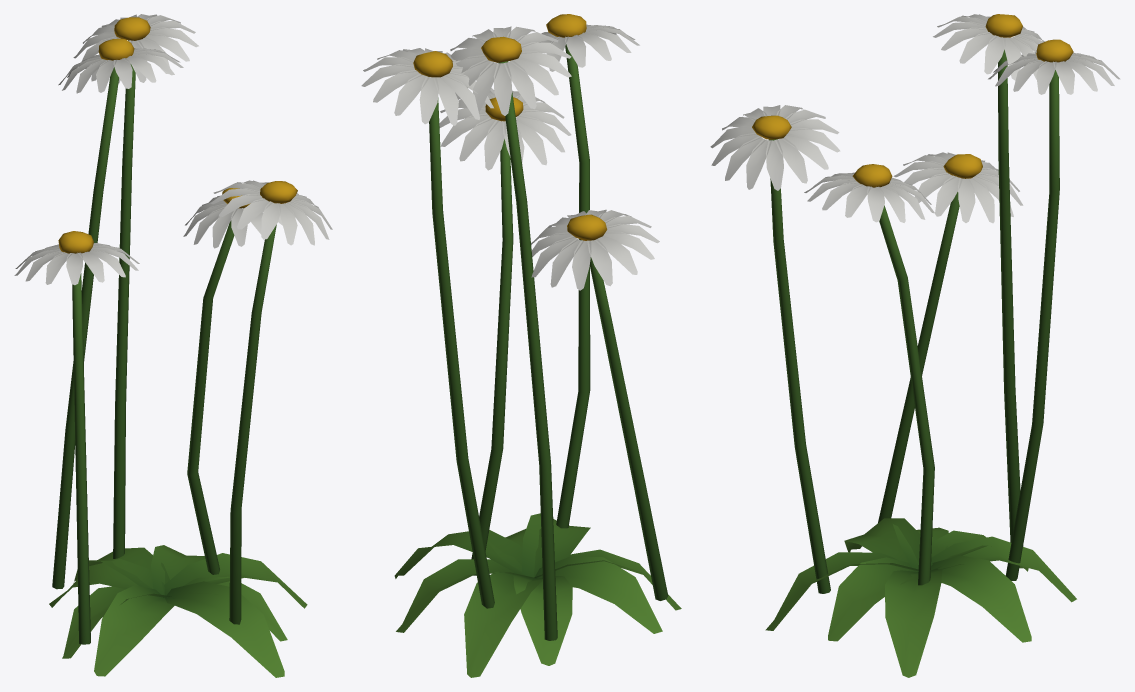
Rendered from SM_Flower_Daisy.fbx.
3 views of the same model, side by side, from view 1: azimuth 30°, elevation 25°; view 2: azimuth 150°, elevation 25°; view 3: azimuth 270°, elevation 25° (orthographic). The views are drawn at different scales.
Visible parts, largest first — view 1: SM_Flower_Daisy; view 2: SM_Flower_Daisy; view 3: SM_Flower_Daisy.
Part boxes in pixels (x1=…): SM_Flower_Daisy: x1=14, y1=14, x2=332, y2=677; SM_Flower_Daisy: x1=361, y1=14, x2=681, y2=677; SM_Flower_Daisy: x1=710, y1=14, x2=1120, y2=677.
Size of the model in its own units: 0.1935 by 0.3994 by 0.2529.
